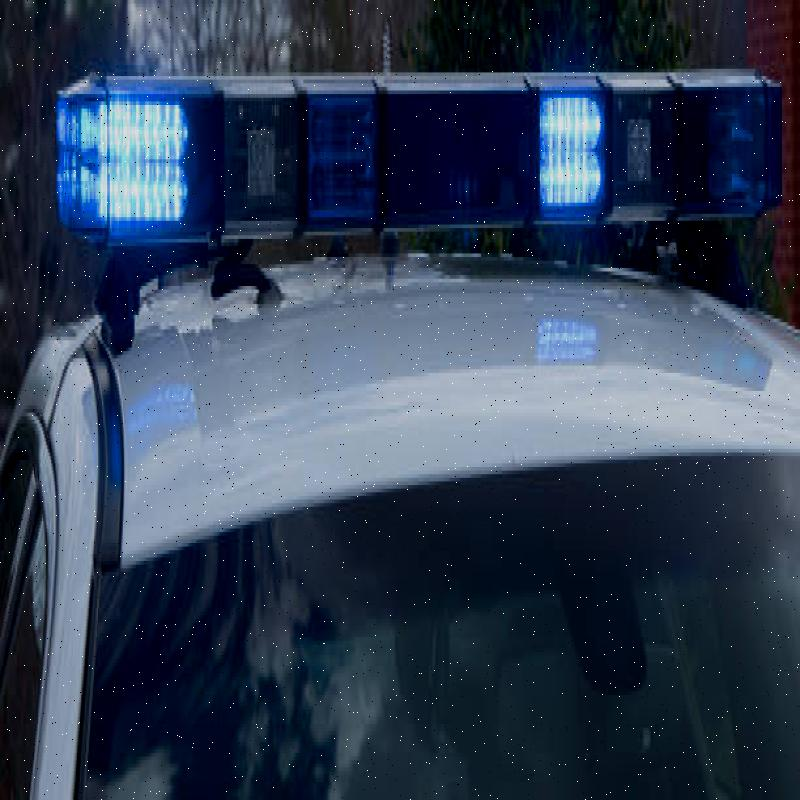AmbulanceSiren: (48, 44, 786, 336)
